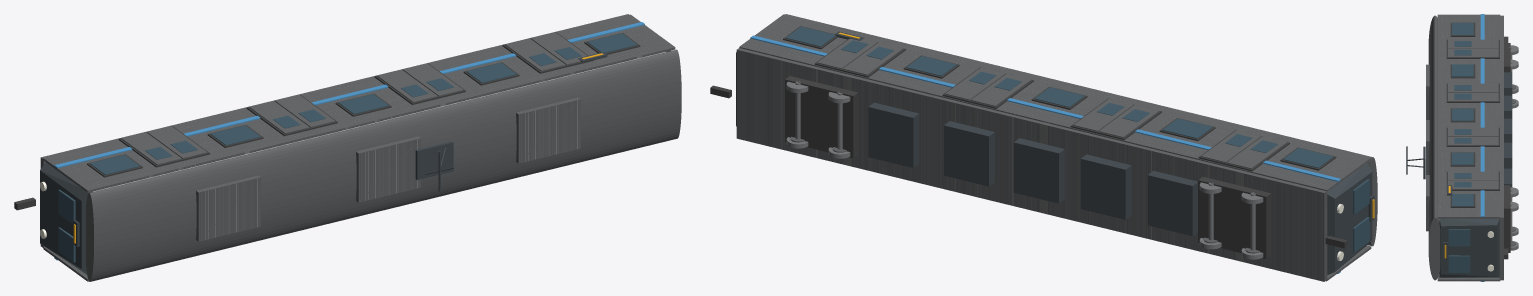
The model's file is WorldRail_WR20_Custom_Metro.glb.
3 views of the same model, side by side, from view 1: azimuth 30°, elevation 25°; view 2: azimuth 150°, elevation 25°; view 3: azimuth 270°, elevation 25° (orthographic). The views are drawn at different scales.
Parts seen in each view (by area): view 1: roof, side_skin_1, HVAC_0, HVAC_2, HVAC_1, rear_cab, blue_belt_1, panto_base, floor, door_1_3_0, door_1_2_1, door_1_1_0 (+13 smaller); view 2: floor, side_skin_1, bogie_0, bogie_1, underbody_2, underbody_1, underbody_4, underbody_3, underbody_0, rear_cab, blue_belt_1, roof (+15 smaller); view 3: side_skin_1, front_cab, roof, floor, blue_belt_1, bogie_1, door_1_0_0, door_1_0_1, door_1_1_0, door_1_1_1, door_1_2_0, door_1_2_1 (+39 smaller).
Boxes of the visible parts, x1,y1,x2,y2 form: roof: (86,49,681,281); side_skin_1: (43,14,675,192); HVAC_0: (196,175,260,241); HVAC_2: (516,97,580,163); HVAC_1: (356,136,420,202); rear_cab: (40,162,89,274); blue_belt_1: (54,22,644,168); panto_base: (415,141,453,179); floor: (40,14,629,247); door_1_3_0: (505,38,565,71); door_1_2_1: (403,63,463,96); door_1_1_0: (249,101,309,133); floor: (736,48,1327,281); side_skin_1: (739,14,1371,191); bogie_0: (1198,177,1271,259); bogie_1: (785,76,858,158); underbody_2: (1013,138,1064,203); underbody_1: (1080,154,1131,219); underbody_4: (868,102,919,167); underbody_3: (944,121,994,186); underbody_0: (1147,170,1197,236); rear_cab: (1327,163,1372,274); blue_belt_1: (750,35,1340,181); roof: (785,14,1377,246); side_skin_1: (1437,14,1500,218); front_cab: (1439,218,1499,277); roof: (1428,15,1440,280); floor: (1499,15,1503,280); blue_belt_1: (1480,14,1484,216); bogie_1: (1504,185,1510,252); door_1_0_0: (1448,39,1498,48); door_1_0_1: (1448,48,1498,57); door_1_1_0: (1448,83,1498,92); door_1_1_1: (1448,92,1498,101); door_1_2_0: (1448,127,1498,136); door_1_2_1: (1448,136,1498,145).
Size of the model in its own units: 21.81 by 3.19 by 4.75.
10 materials, 1 textured.
